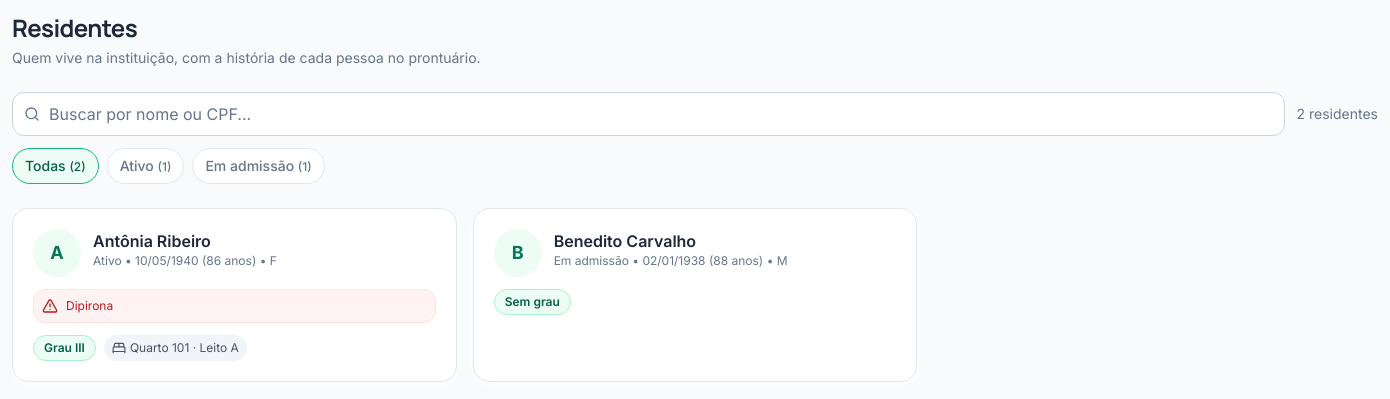
Test: UX-04 — lista de residentes › "Novo residente" só com residentes:criar; filtro por situação usa os valores reais
Expected: the link "A Antônia Ribeiro Ativo • 10/05/1940 (86 anos) • F" is shown, [33,229,277,277]
Expected: the text "Quarto 101 · Leito A" is shown, [104,335,247,361]
What coordinates should you click on to do the following:
click the button "Em admissão (1)"
I would click on:
 (259, 166)
Its box is [192,148,325,184].
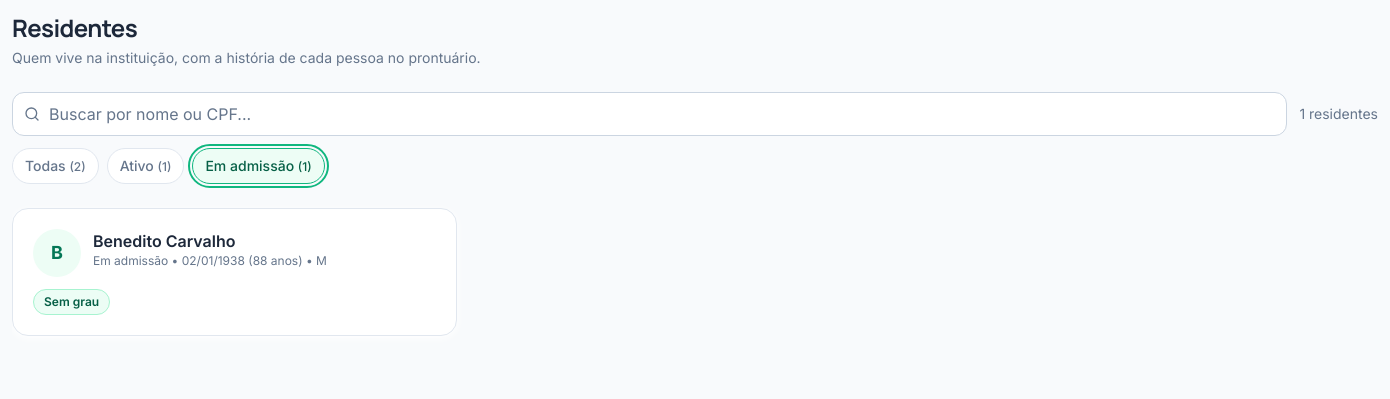
Expected: the link "B Benedito Carvalho Em admissão • 02/01/1938 (88 anos) • M" is shown, [33,229,327,277]
Result: the link "Antônia Ribeiro" is gone
